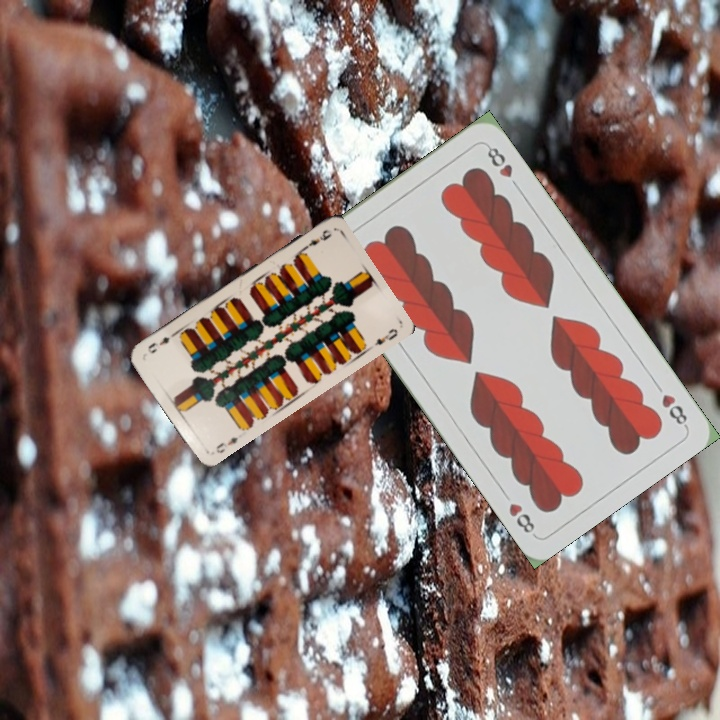E9: (298, 225, 335, 253), (212, 433, 240, 456)
H8: (657, 390, 690, 430)
